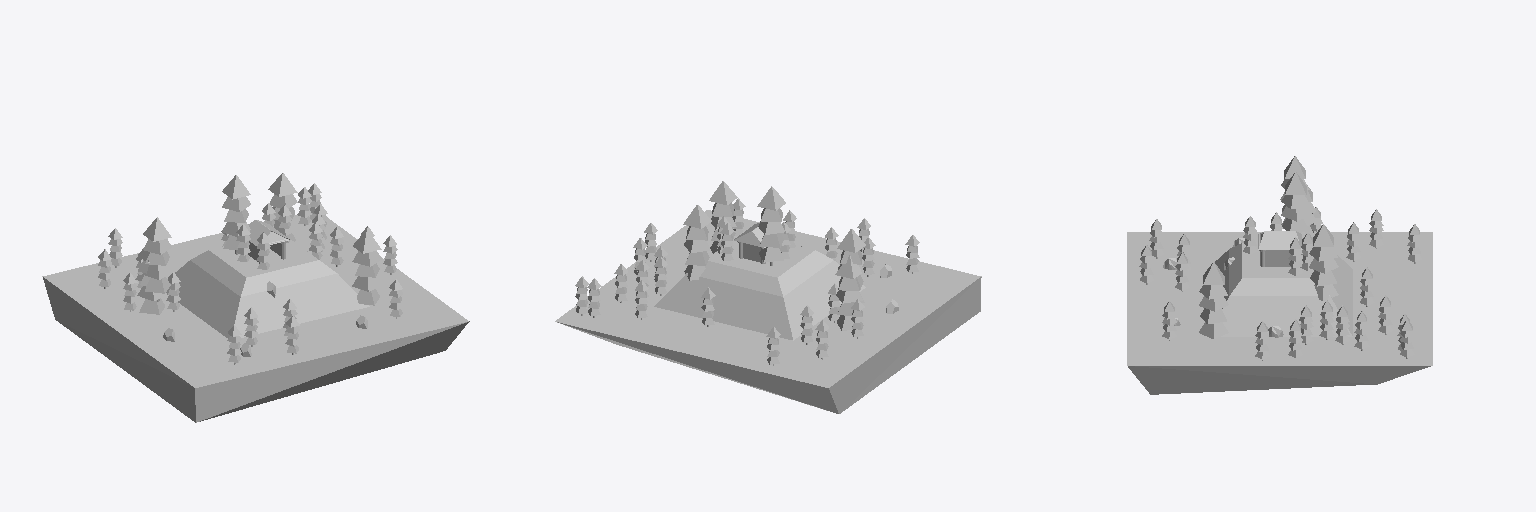
Rendered from where no light shimmers scene.obj.
The picture shows the model from 3 angles: view 1: azimuth 30°, elevation 25°; view 2: azimuth 150°, elevation 25°; view 3: azimuth 270°, elevation 25°; orthographic projection.
Visible parts, largest first — view 1: mesh16, mesh13, mesh01; view 2: mesh16, mesh13; view 3: mesh16, mesh13, mesh01.
Part boxes in pixels (left/top/right/bottom): mesh16: left=42, top=215, right=469, bottom=422; mesh13: left=166, top=240, right=369, bottom=338; mesh01: left=248, top=220, right=289, bottom=245; mesh16: left=555, top=210, right=981, bottom=413; mesh13: left=654, top=232, right=865, bottom=340; mesh16: left=1127, top=232, right=1432, bottom=394; mesh13: left=1207, top=243, right=1352, bottom=336; mesh01: left=1258, top=231, right=1301, bottom=249.
Bounding box in the file's own units: 123 × 66.79 × 119.